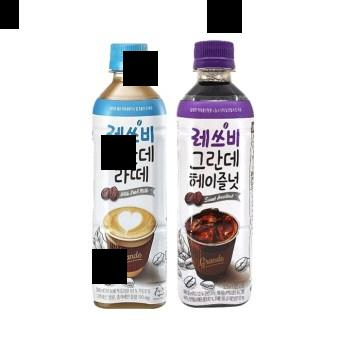letsbe_grande_hazelnut: (175, 40, 255, 310)
